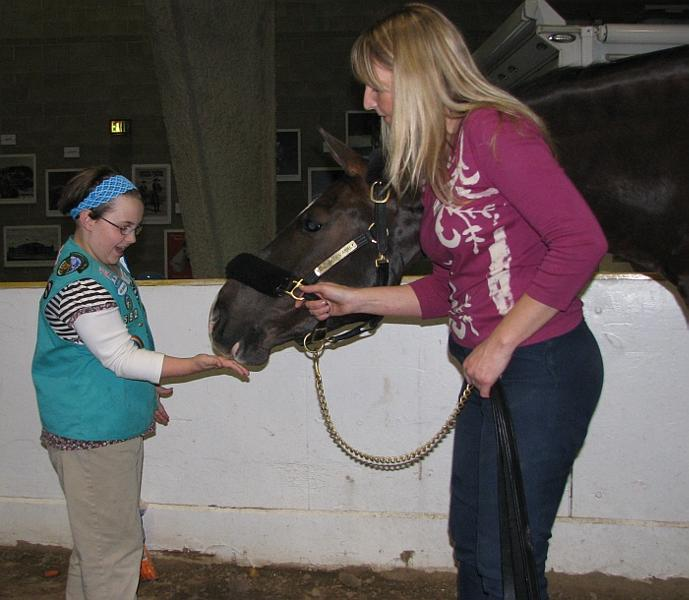person: (31, 161, 247, 594)
